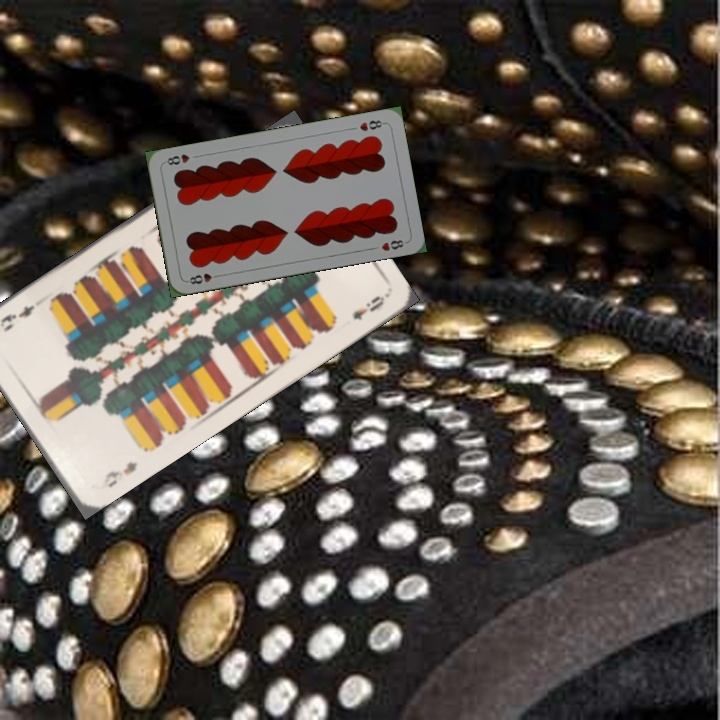E9: (93, 457, 140, 490)
H8: (183, 269, 223, 287), (355, 116, 387, 134)
